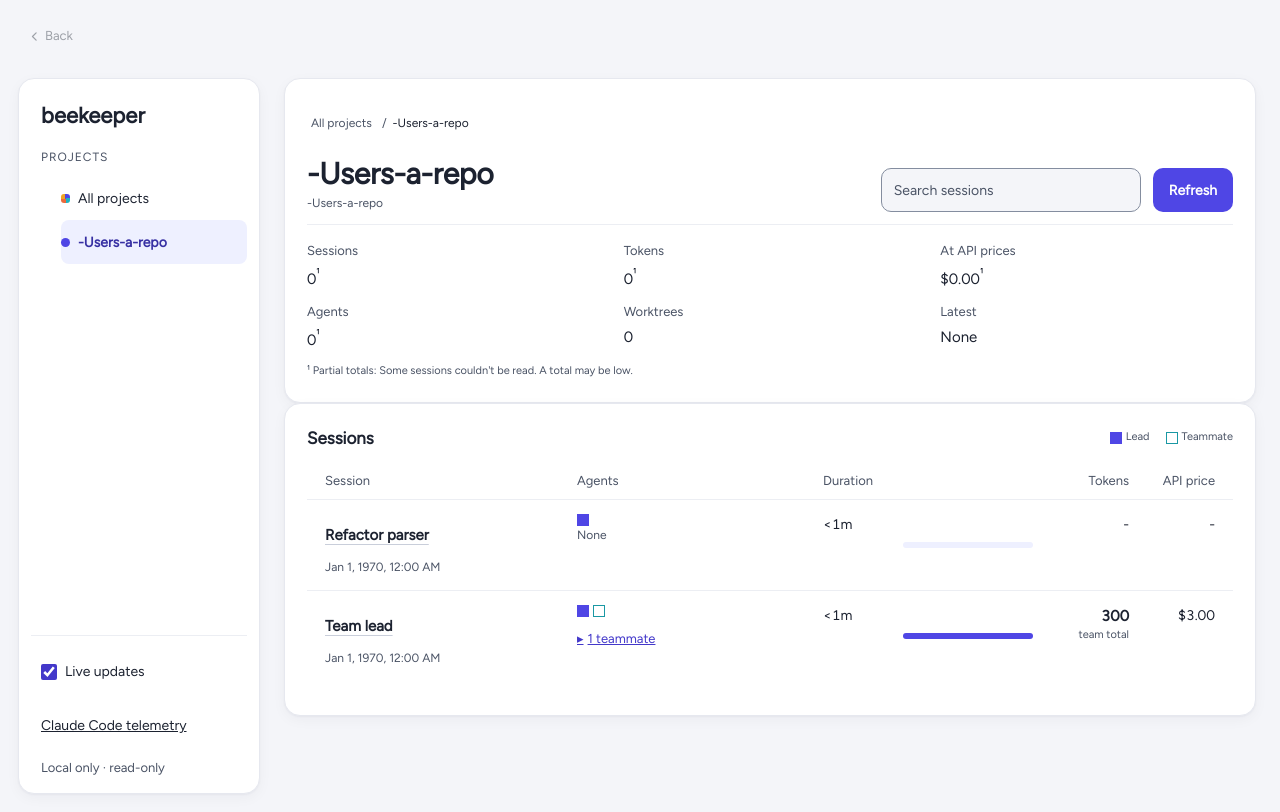
Test: session search by subagent › opens a lead to the teammate whose own subagent matches, and adds no "matching subagent" line, when its own subagent matches
Type "checker" into the search field labelled "Search sessions" at (1011,190), box [881, 168, 1141, 212]
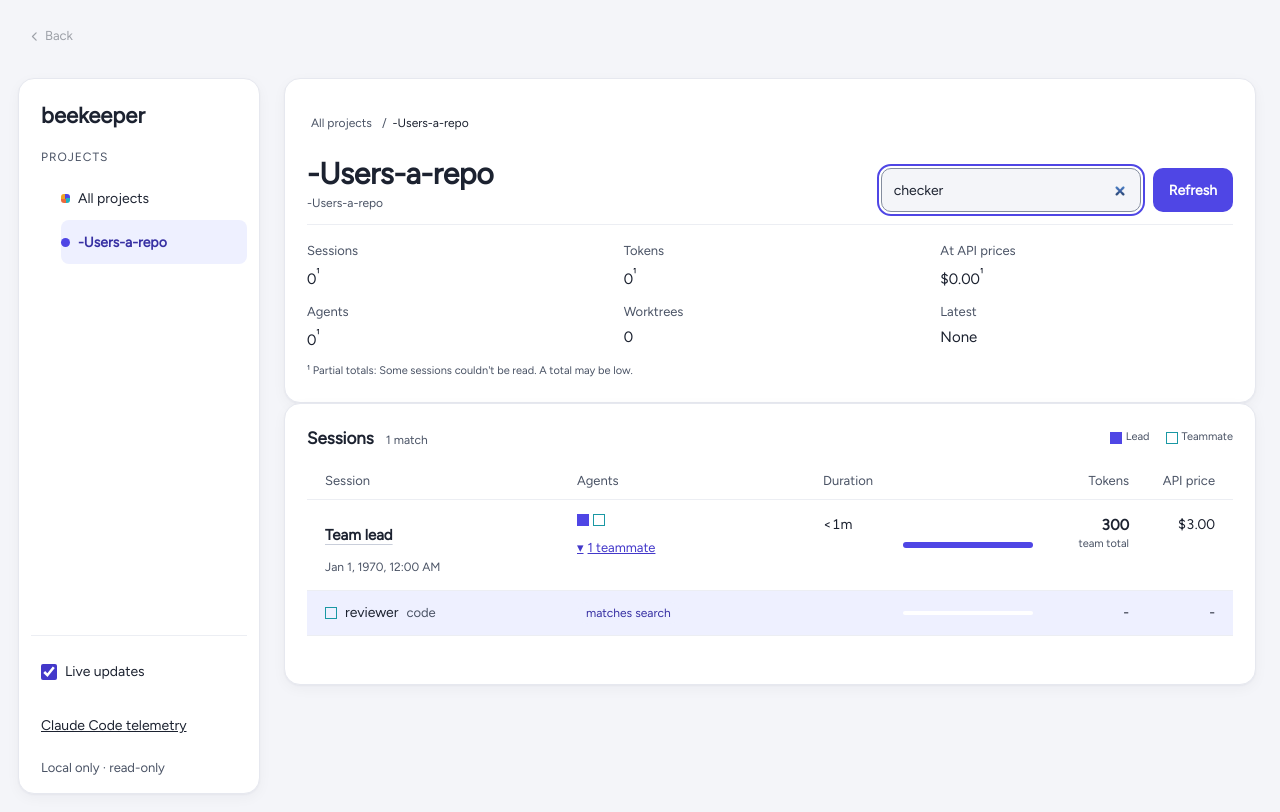
Result: the button "reviewer code matches search - -" is shown at [307, 590, 1233, 634]
Result: the text "matches search" is shown at [577, 602, 680, 624]
Result: the button "Refactor parser" is gone
